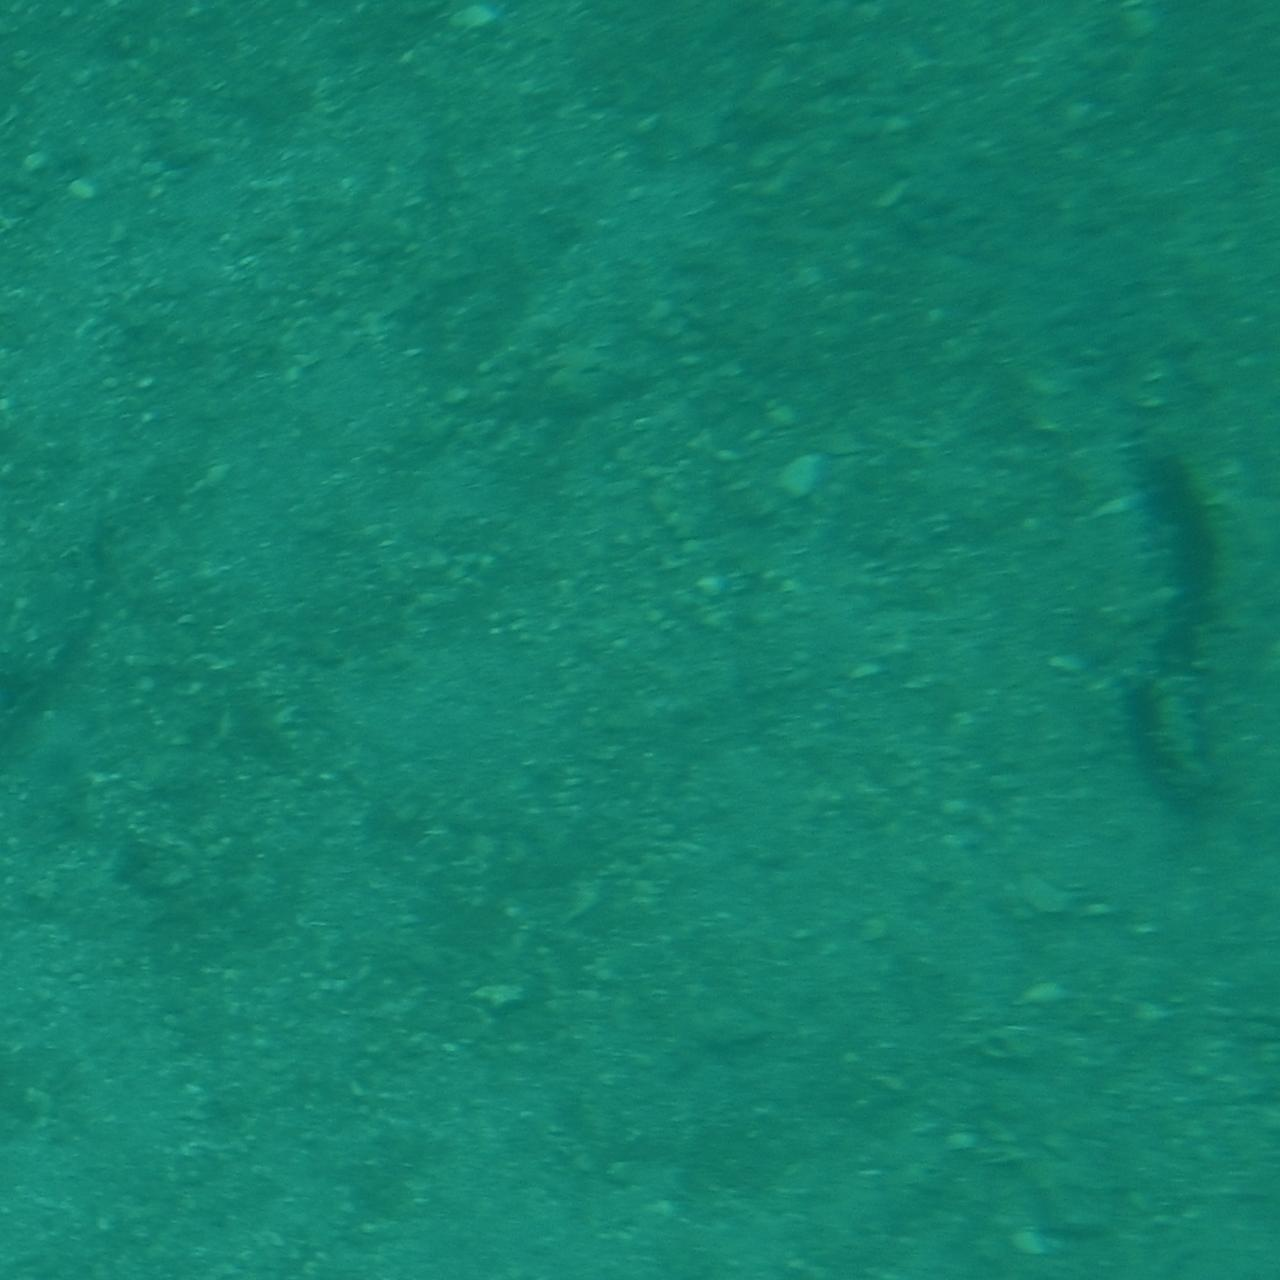Holothuria tubulosa: (1115, 425, 1237, 855)
